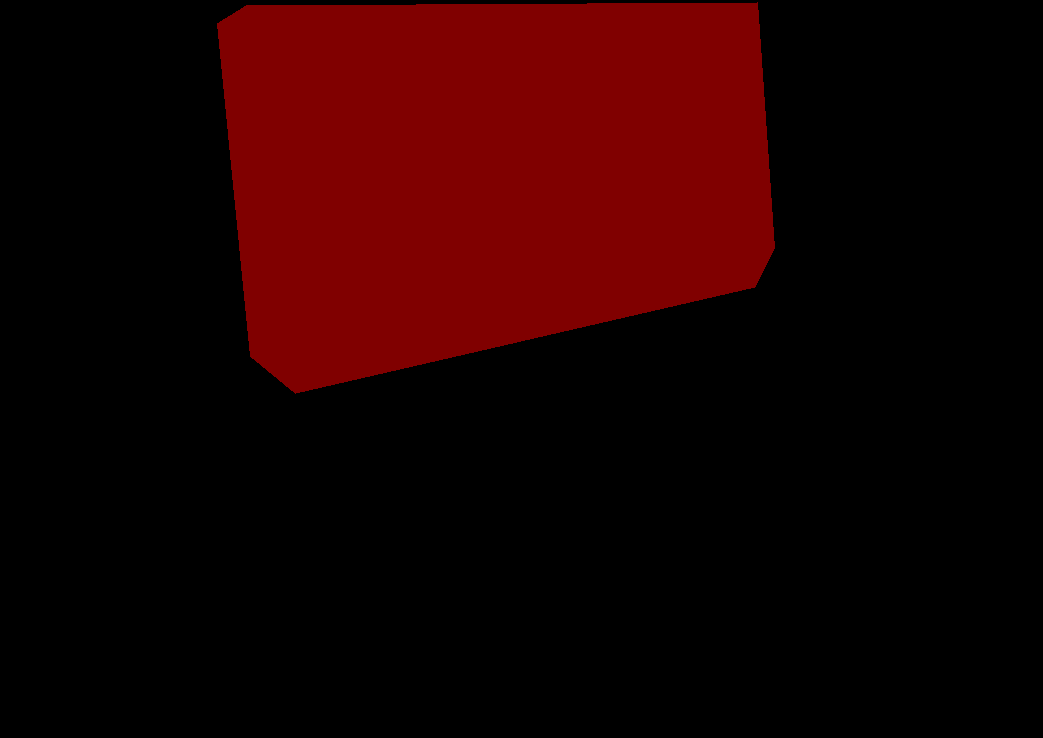sign: (217, 2, 774, 393)
